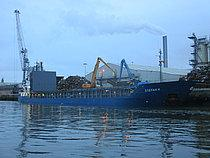Ship: (11, 6, 200, 113)
